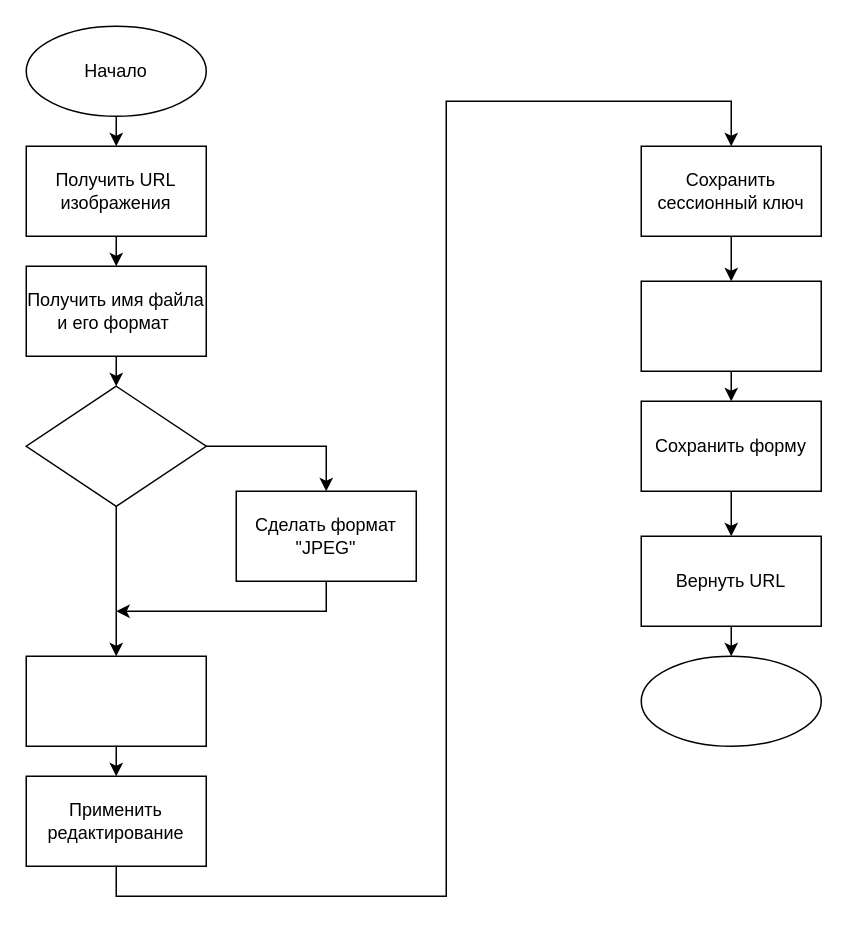
Some shapes in this 848 by 935 pixel diagram are drawn without their labels. Here are the shapes that lost their labels. From the top down, the centre of each, then its label:
At pixel 730 325: "Сохранить изображение в форме".
At pixel 115 445: "формат = jpg".
At pixel 115 700: "Открыть изображение".
At pixel 730 700: "Конец".
